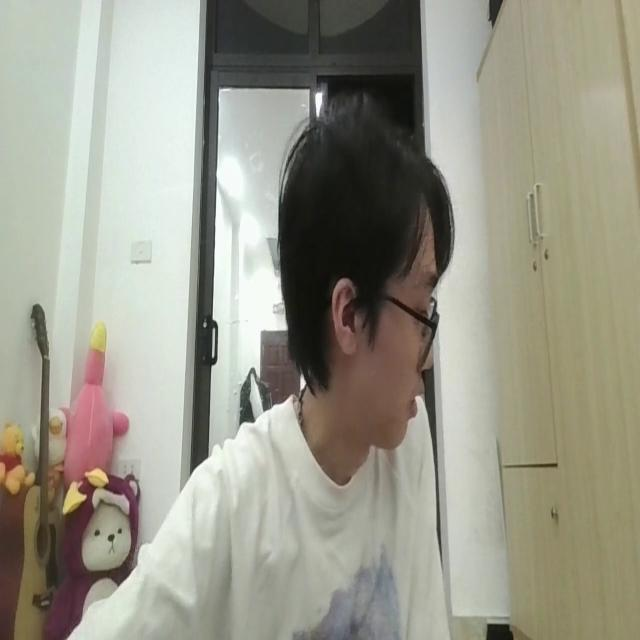student: (40, 90, 449, 640)
